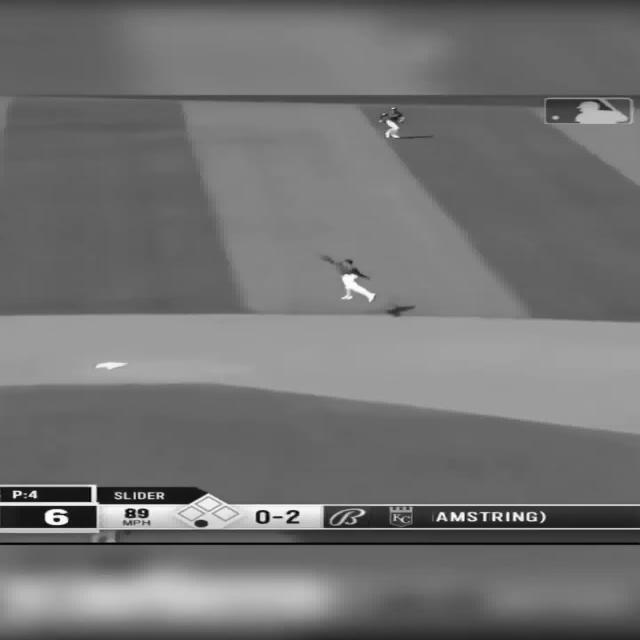shoe: (367, 293, 375, 302), (340, 295, 353, 300)
